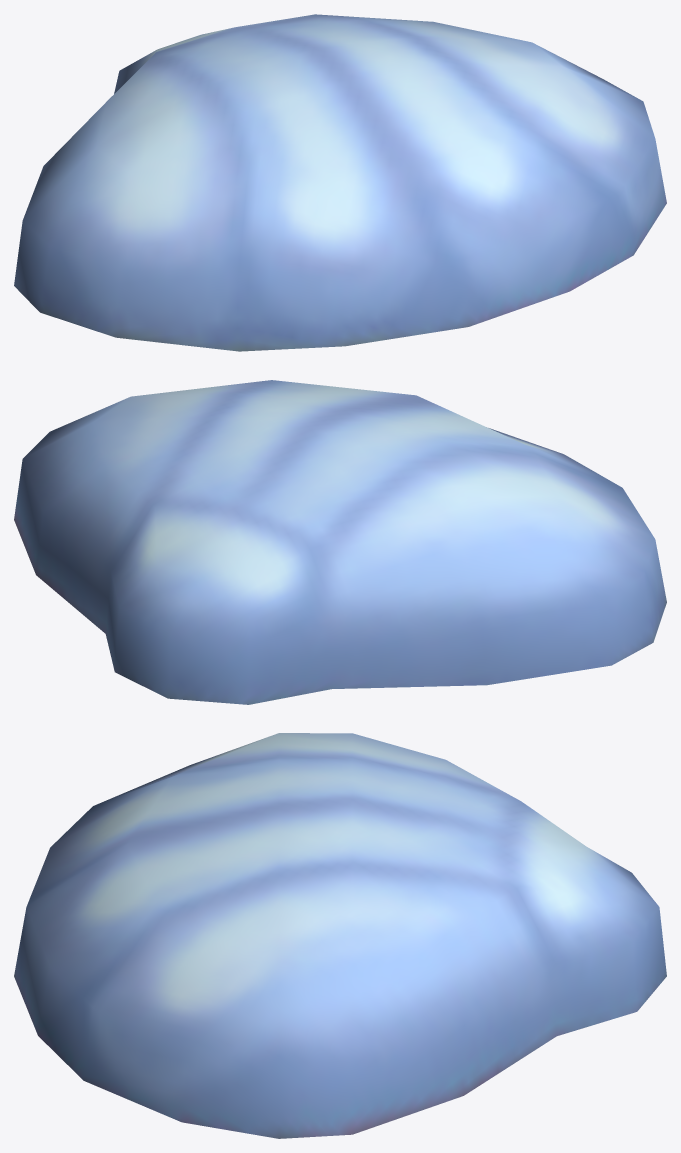
File: Beach_shell_04.fbx
The picture shows the model from 3 angles, top to bottom: view 1: azimuth 30°, elevation 25°; view 2: azimuth 150°, elevation 25°; view 3: azimuth 270°, elevation 25°; orthographic projection. The views are drawn at different scales.
Visible parts, largest first — view 1: Beach_shell_04; view 2: Beach_shell_04; view 3: Beach_shell_04.
Part boxes in pixels (x1=…): Beach_shell_04: x1=14, y1=14, x2=666, y2=351; Beach_shell_04: x1=14, y1=380, x2=666, y2=704; Beach_shell_04: x1=14, y1=733, x2=666, y2=1138.
Size of the model in its own units: 50.12 by 12.73 by 42.54.
